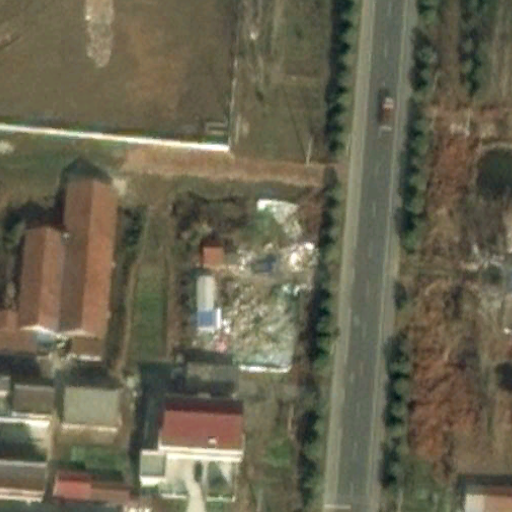msw: (214, 279, 300, 370)
